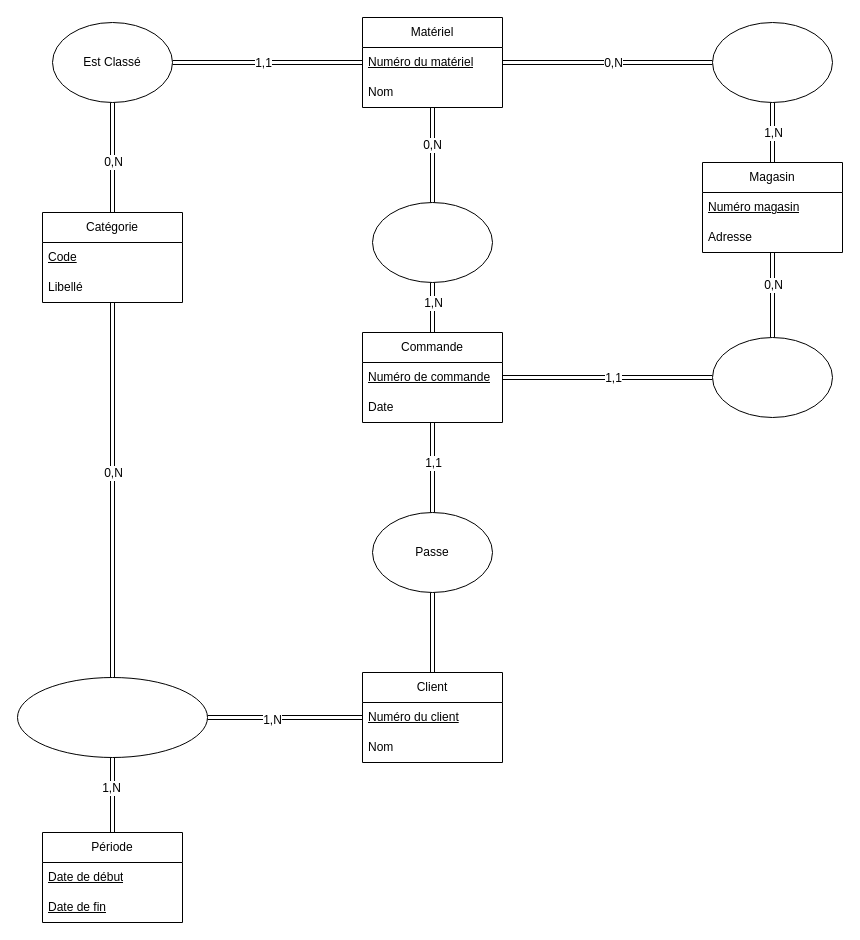
Image size: 860x940. Some labels were removed from this diagram. Here are the shapes that lost their labels. From the top down, the centre of each, then its label:
At (772,62): "Est stocké Quantité".
At (432,242): "Concerne Quantité".
At (772,377): "Approvisionnement".
At (112,717): "Peut commander Droit d'approvisionnement".
